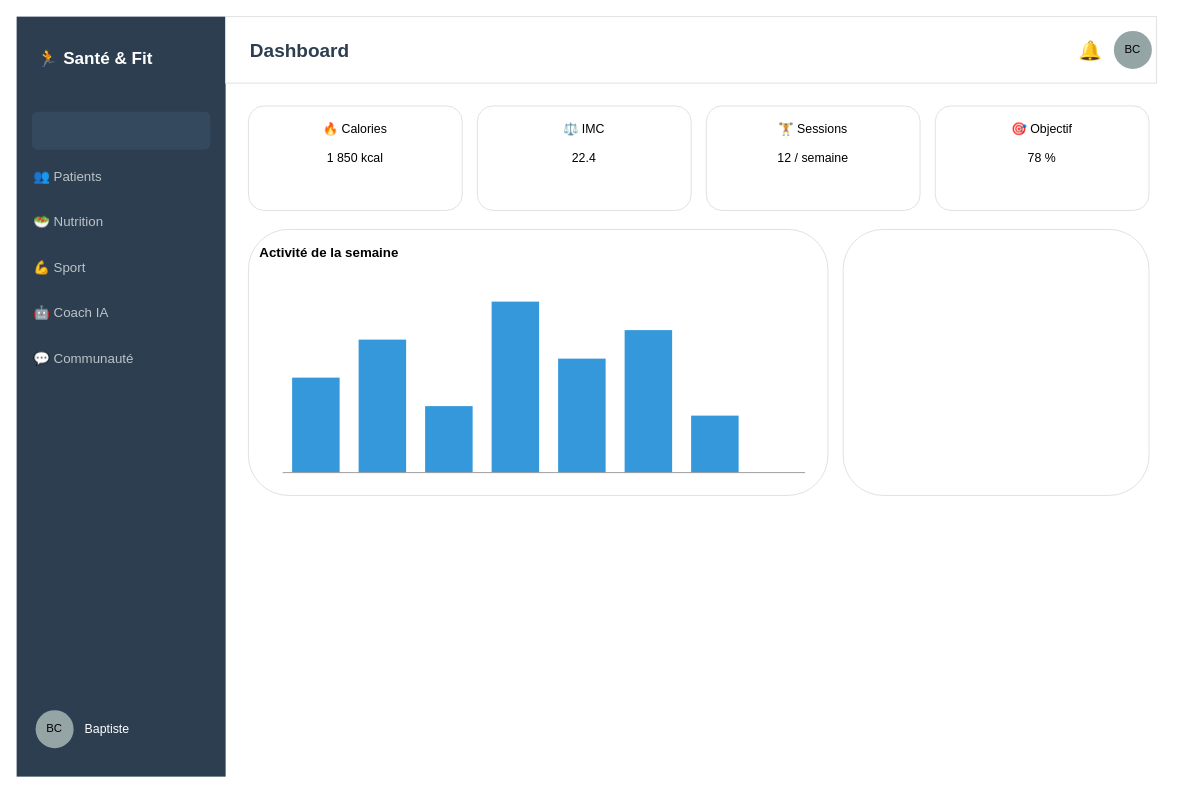
Some shapes in this 1177 by 793 pixel diagram are drawn without their labels. Here are the shapes that lost their labels. From the top down, the centre of each, then its label:
At point (120, 130): "📊 Dashboard".
At point (995, 361): "Profil médical Régime : Méditerranéen Allergies : Arachides, Lactose Notes : RAS".
